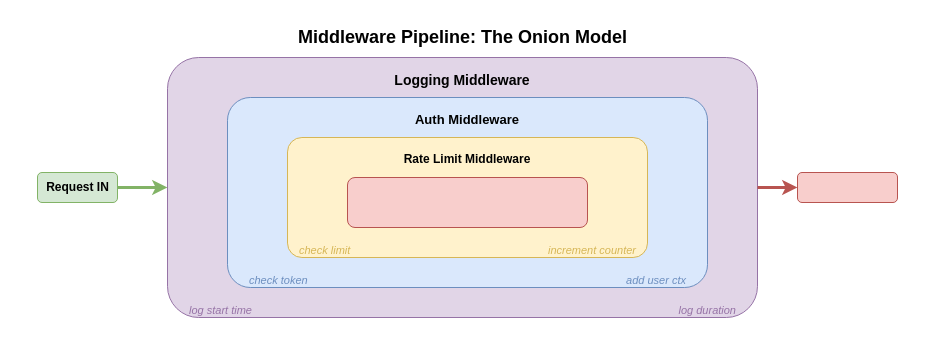
Some shapes in this 934 by 364 pixel diagram are drawn without their labels. The centre of each missing label's shape, as x and y in pixels:
"Response OUT" belongs at point (847, 187).
"Your Handler OrderController.listOrders()" belongs at point (467, 202).
